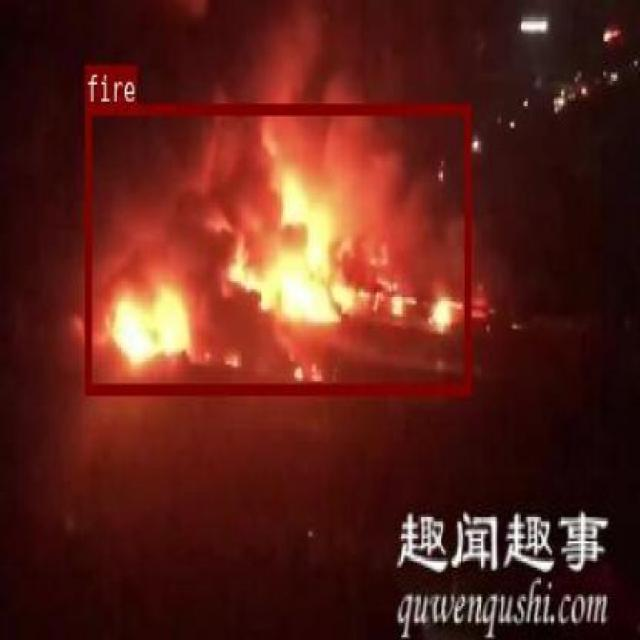Fire: (84, 102, 468, 393)
